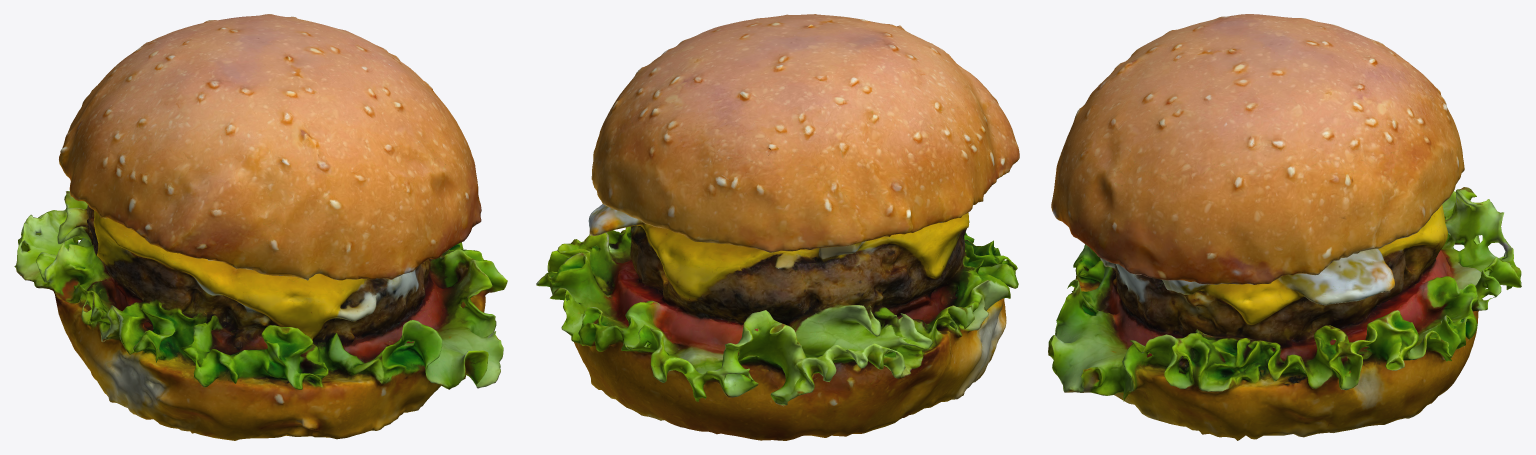
The model's file is 1-draco-0-08-scale.glb.
The picture shows the model from 3 angles, left to right: view 1: azimuth 30°, elevation 25°; view 2: azimuth 150°, elevation 25°; view 3: azimuth 270°, elevation 25°; orthographic projection. The views are drawn at different scales.
Parts seen in each view (by area): view 1: Mesh_0_Part_0.002; view 2: Mesh_0_Part_0.002; view 3: Mesh_0_Part_0.002.
Part boxes in pixels (x1,y1,x2,y2): Mesh_0_Part_0.002: (14, 14, 507, 440); Mesh_0_Part_0.002: (536, 14, 1019, 440); Mesh_0_Part_0.002: (1048, 14, 1521, 440).
Bounding box in the file's own units: 1.6 × 1.29 × 1.77.
Materials: 1 (1 with a texture image).
